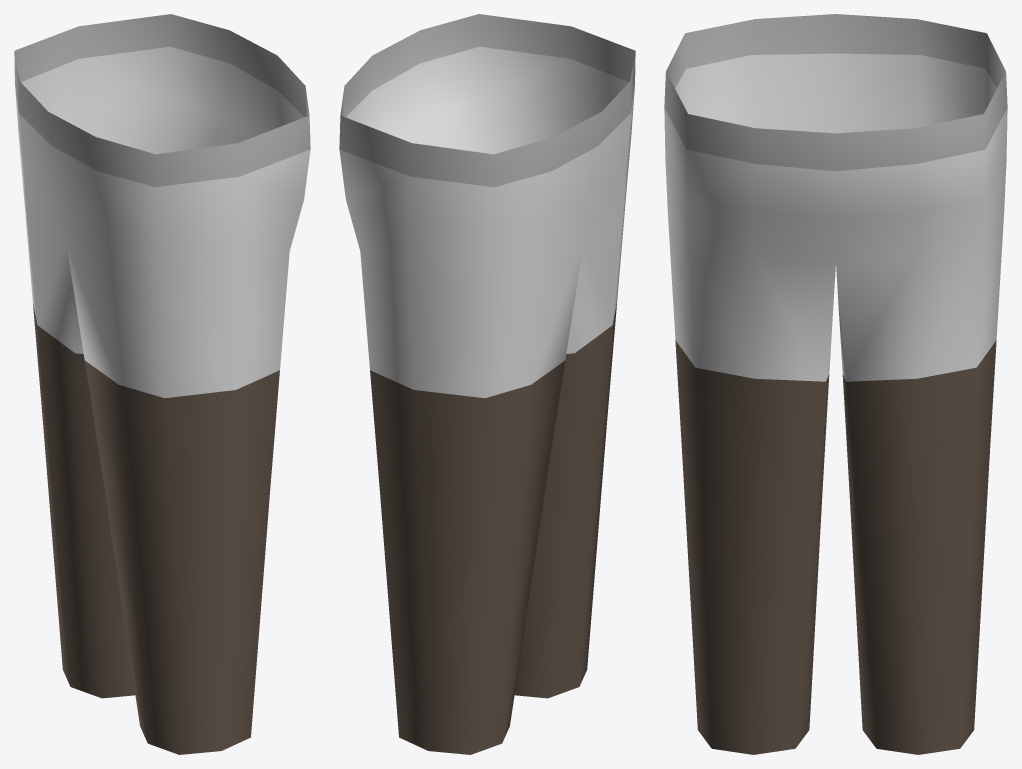
Rendered from boat_shorts.fbx.
3 renders of one model, left to right at view 1: azimuth 30°, elevation 25°; view 2: azimuth 150°, elevation 25°; view 3: azimuth 270°, elevation 25°, orthographic. The views are drawn at different scales.
Visible parts, largest first — view 1: Cube.014; view 2: Cube.014; view 3: Cube.014.
Boxes of the visible parts, box(x1,y1,x2,y2) form: Cube.014: box(14, 14, 310, 754); Cube.014: box(339, 14, 635, 754); Cube.014: box(664, 14, 1007, 754).
Size of the model in its own units: 106 by 271 by 128.
